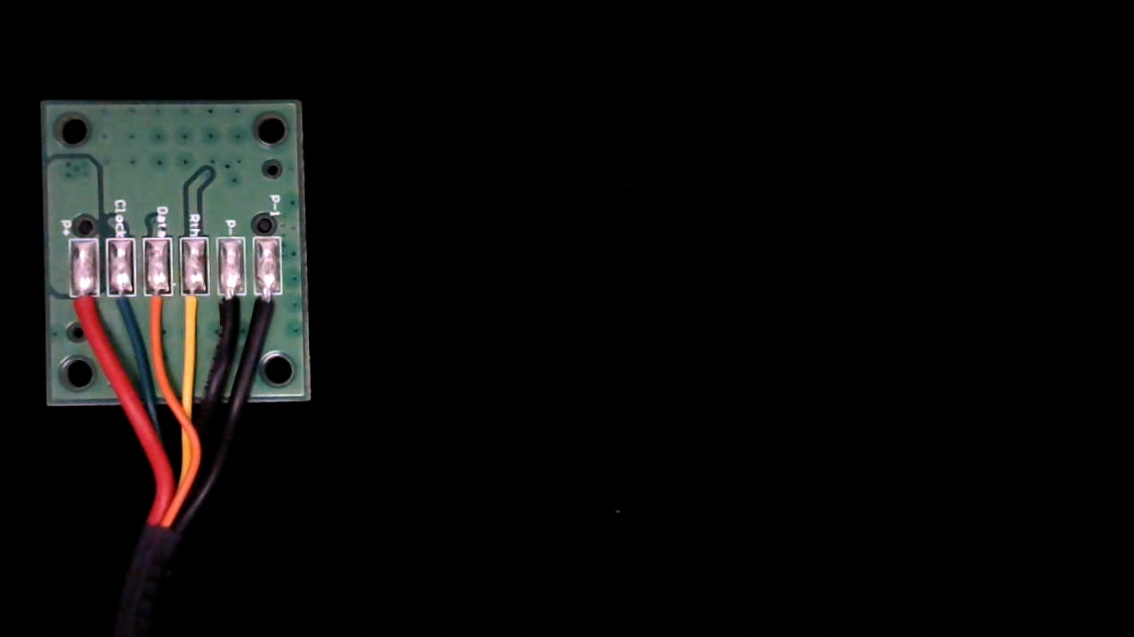Black: (216, 281, 245, 338)
Black1: (253, 281, 284, 342)
Green: (104, 279, 136, 342)
Orange: (142, 280, 172, 345)
Red: (69, 279, 102, 342)
Yellow: (178, 279, 211, 346)
